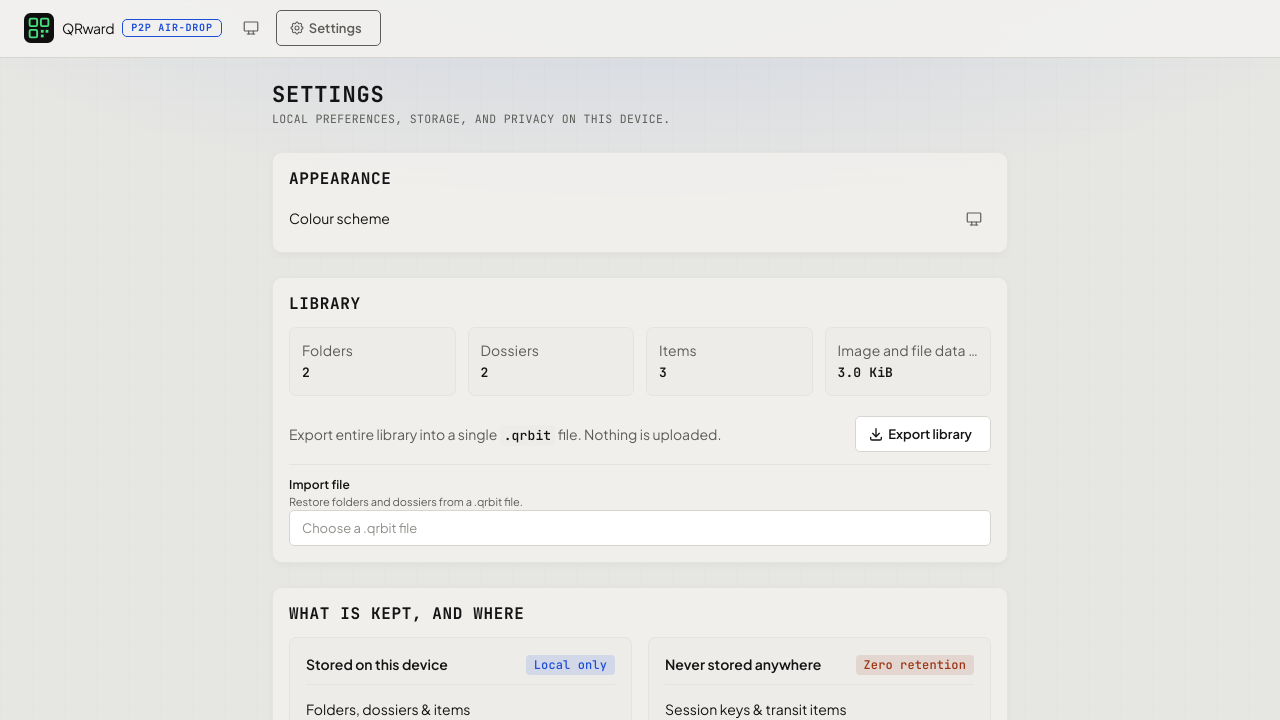
Test: Settings — import › opens the export dialog from Export library and closes it from Cancel
Click the button "Export library" at (923, 434), box [855,416,991,452]
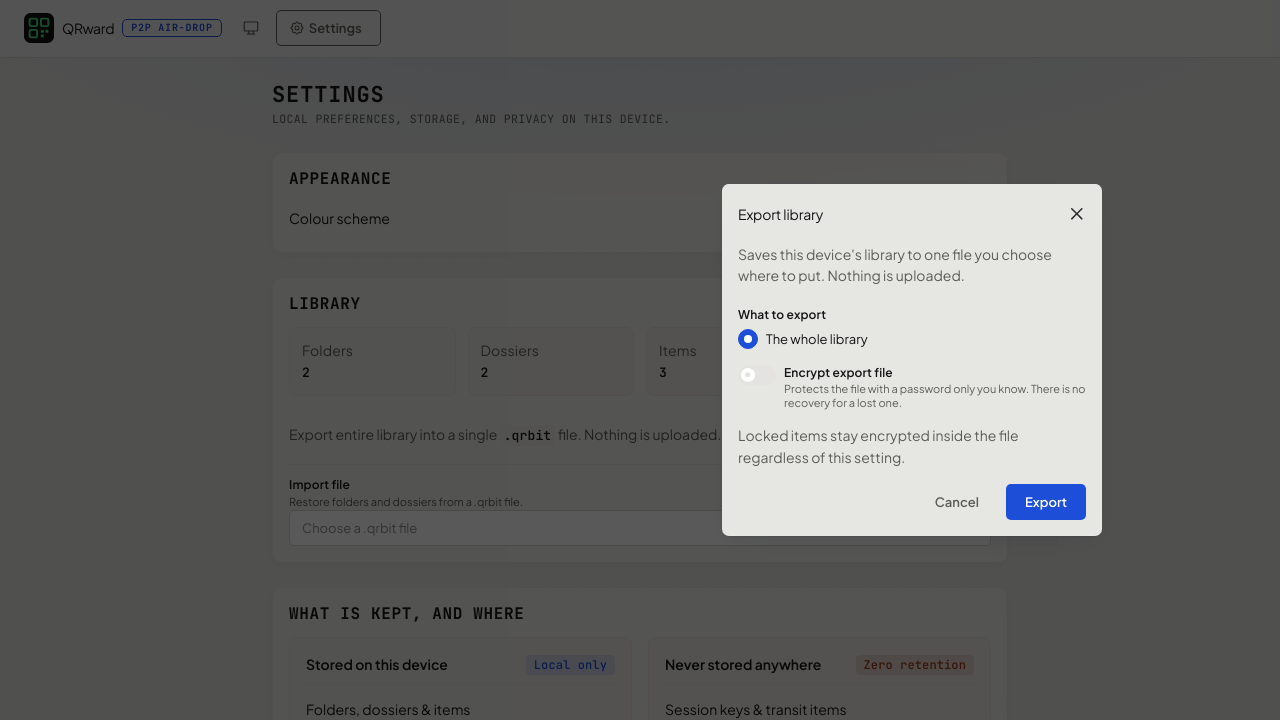
Result: the dialog shows "Export library" at [738,205,823,223]
Result: the dialog shows "Nothing is uploaded" at [738,245,1052,284]
Click the button "Cancel" at (957, 502), box [916,484,998,520]
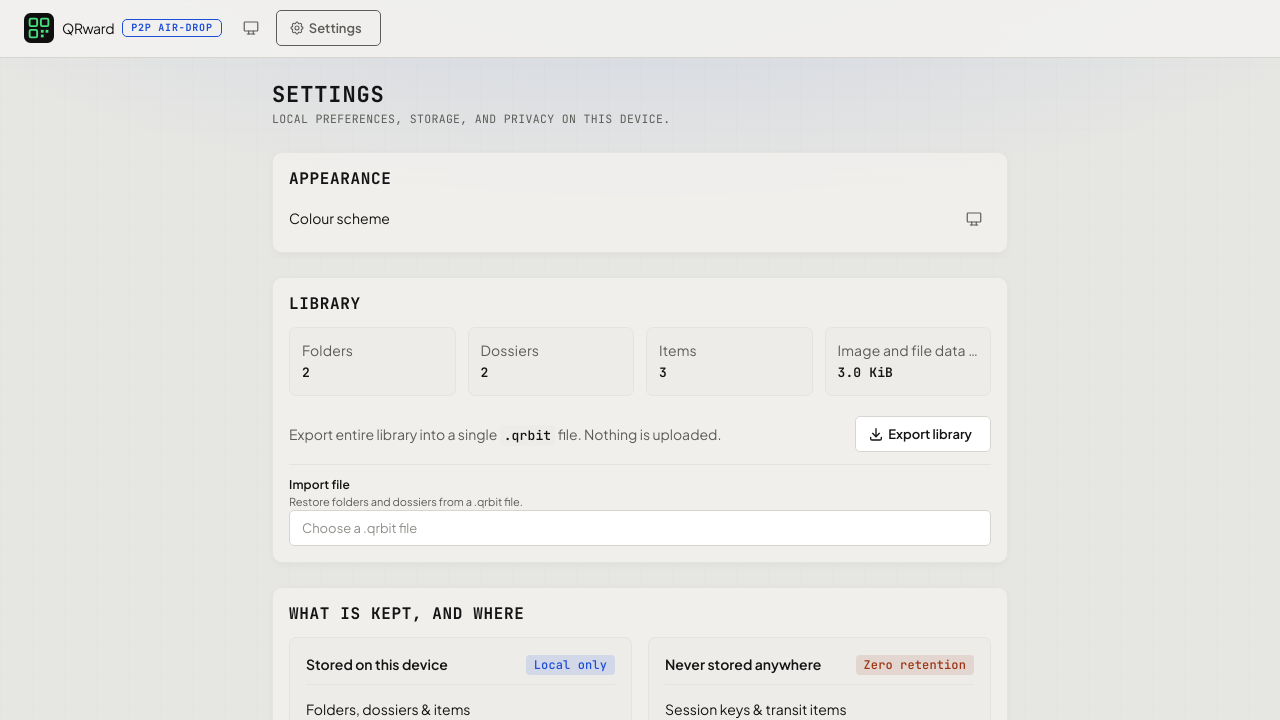
Expected: the text "What is kept, and where" is shown, [289,603,524,624]
Result: the button is gone
